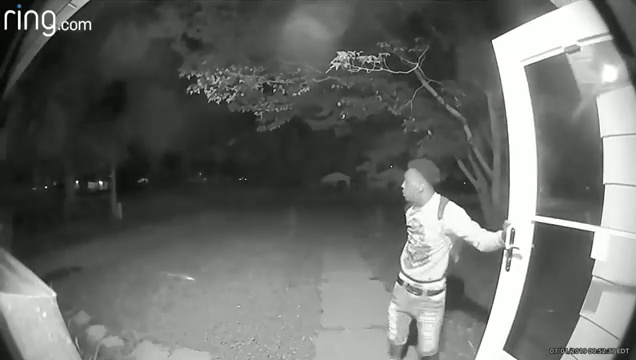face: (402, 170, 417, 202)
